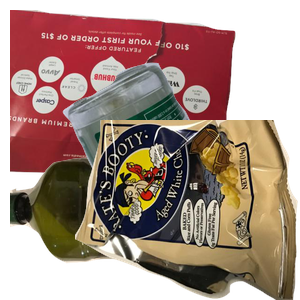glass: (60, 60, 300, 240)
paper: (10, 10, 238, 190)
plastic: (10, 149, 250, 300)
trash: (75, 120, 300, 300)
